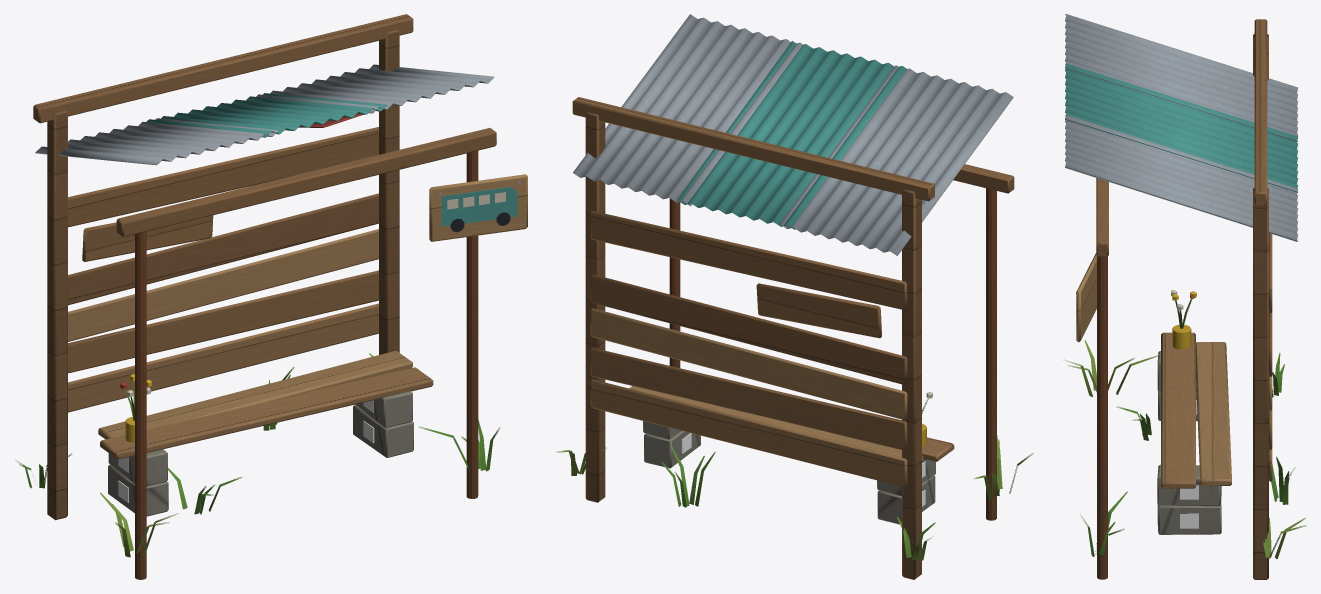
The model's file is bus_stop_bench_settler.glb.
3 renders of one model, left to right at view 1: azimuth 30°, elevation 25°; view 2: azimuth 150°, elevation 25°; view 3: azimuth 270°, elevation 25°, orthographic. The views are drawn at different scales.
Visible parts, largest first — view 1: bus_stop_bench_settler; view 2: bus_stop_bench_settler; view 3: bus_stop_bench_settler.
Boxes of the visible parts, x1=… form: bus_stop_bench_settler: x1=15, y1=14, x2=527, y2=579; bus_stop_bench_settler: x1=556, y1=14, x2=1033, y2=579; bus_stop_bench_settler: x1=1064, y1=14, x2=1306, y2=579.
Size of the model in its own units: 2.84 by 2.87 by 1.55.
22 materials, 22 textured.
